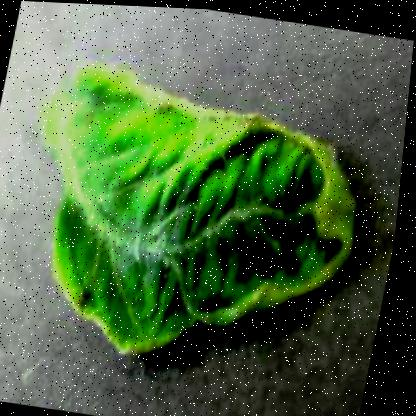Virus: (10, 46, 389, 387)
